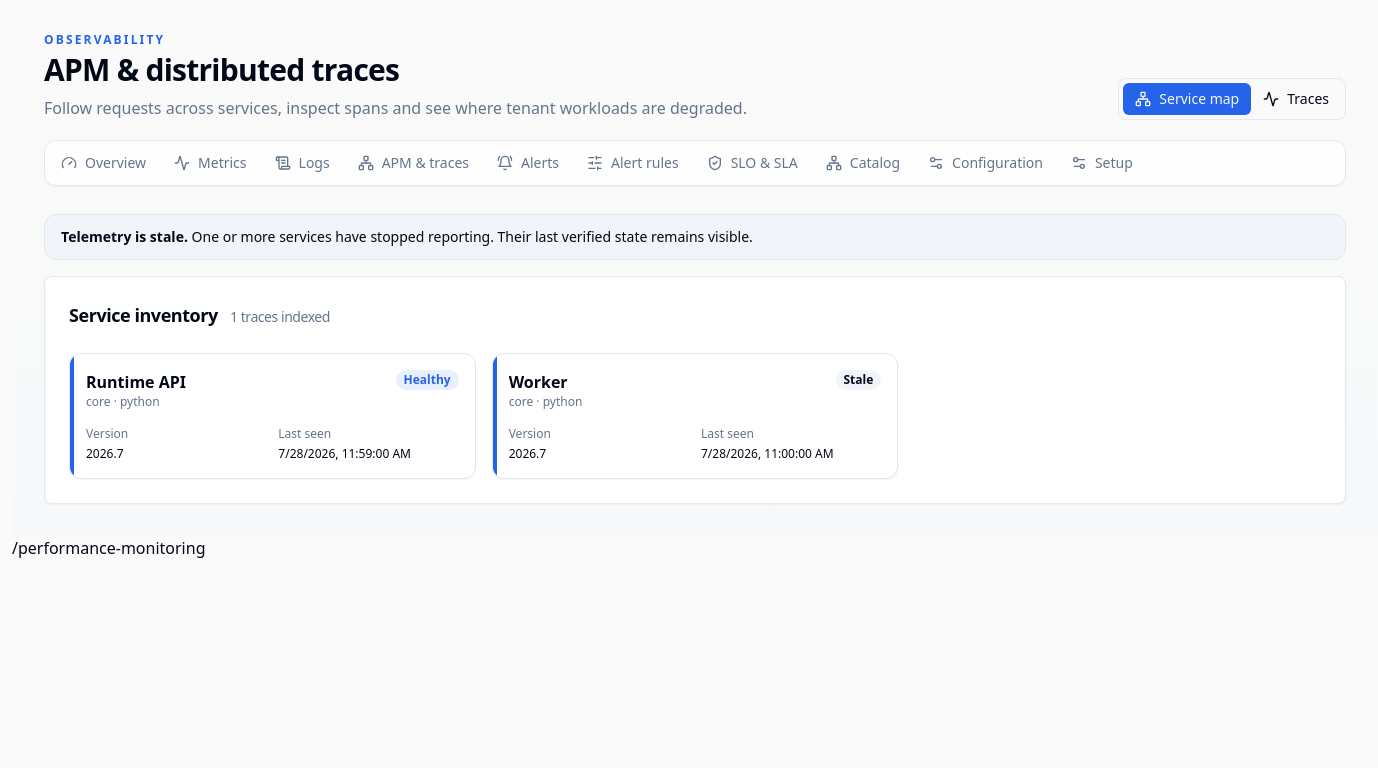
it: performance monitoring page coverage › renders trace service maps with stale evidence and indexes selected spans
The width and height of the screenshot is (1378, 768).
Check: the heading "Runtime API" is shown, box [86,370,186,394]
Check: the heading "Worker" is shown, box [509,371,568,393]
Step 1. Click the button "Traces" → (1296, 99), box [1251,83,1341,115]
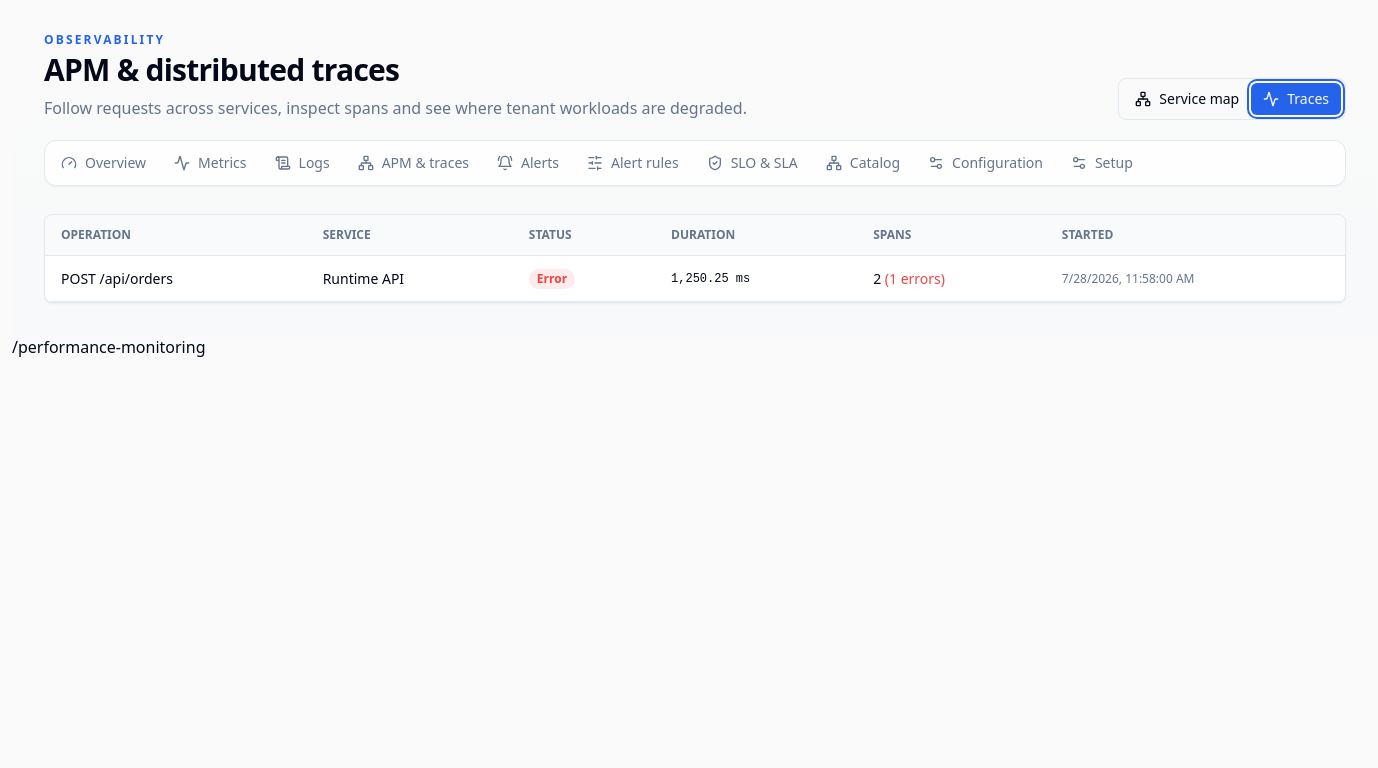
Step 2. Click the text "POST /api/orders" → (176, 278), box [45,256,307,302]
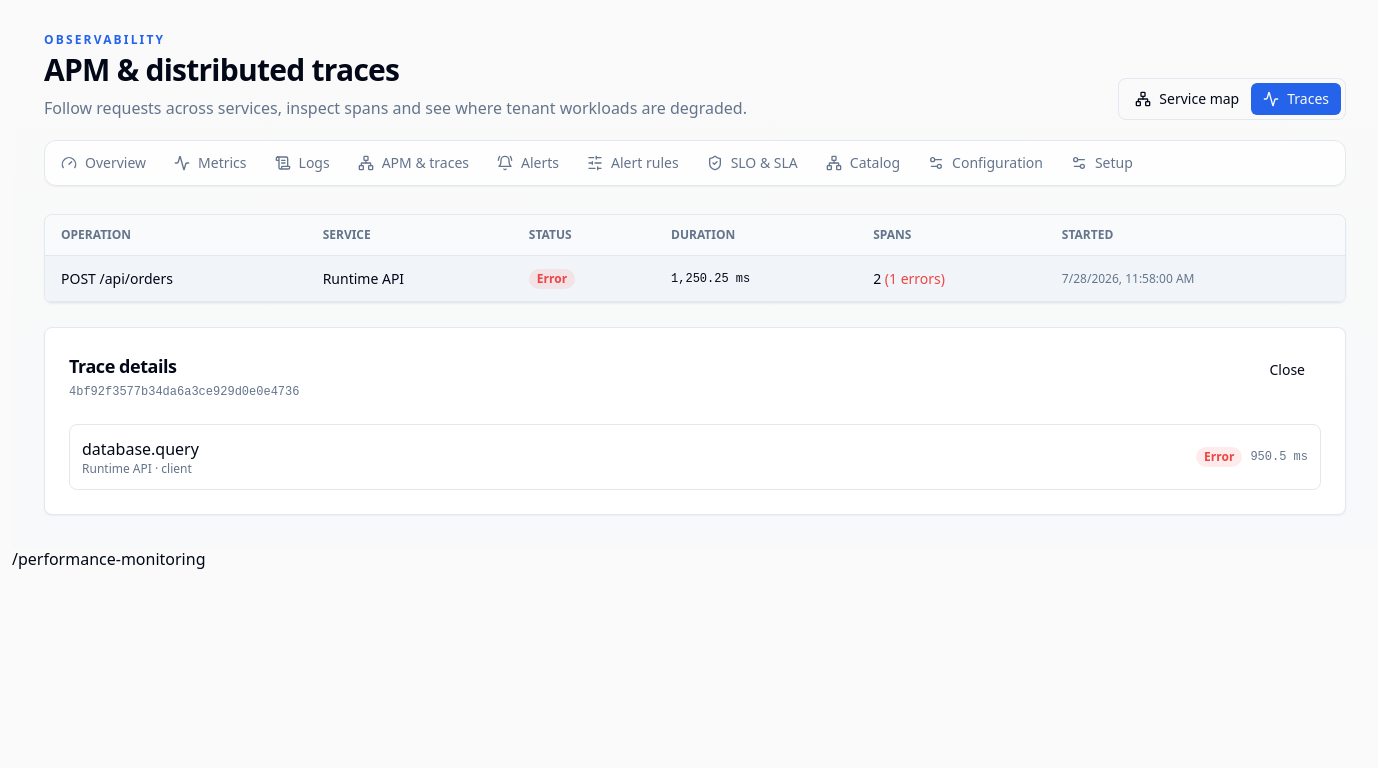
Check: the heading "Trace details" is shown, box [69,354,177,378]
Check: the text "database.query" is shown, box [82,438,199,460]
Check: the text "Runtime API · client" is shown, box [82,460,192,477]
